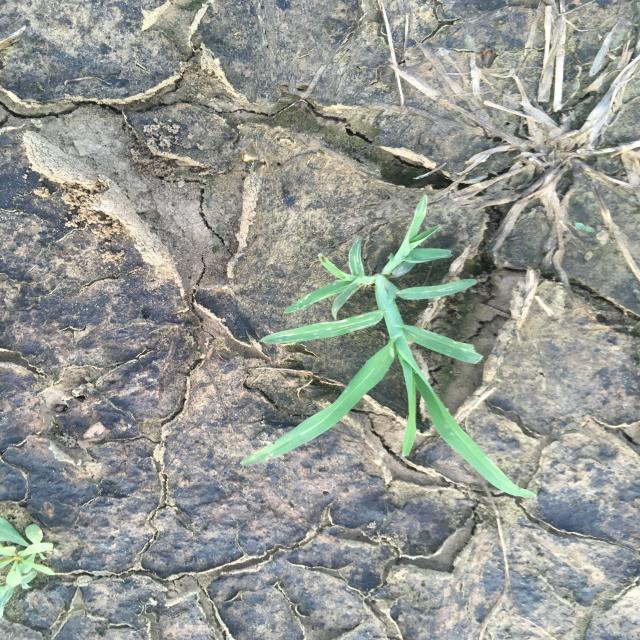Carpetweed: (2, 518, 60, 610)
Goosegrass: (238, 193, 540, 500)
